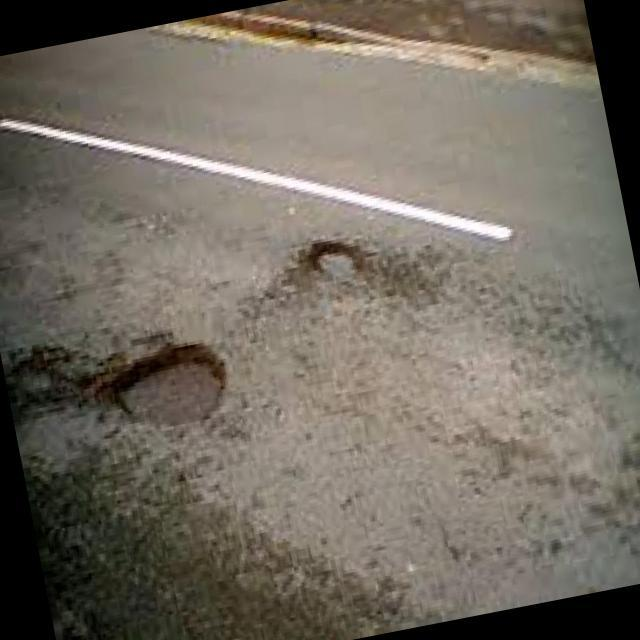Pothole: (7, 348, 226, 428), (309, 242, 366, 283)
